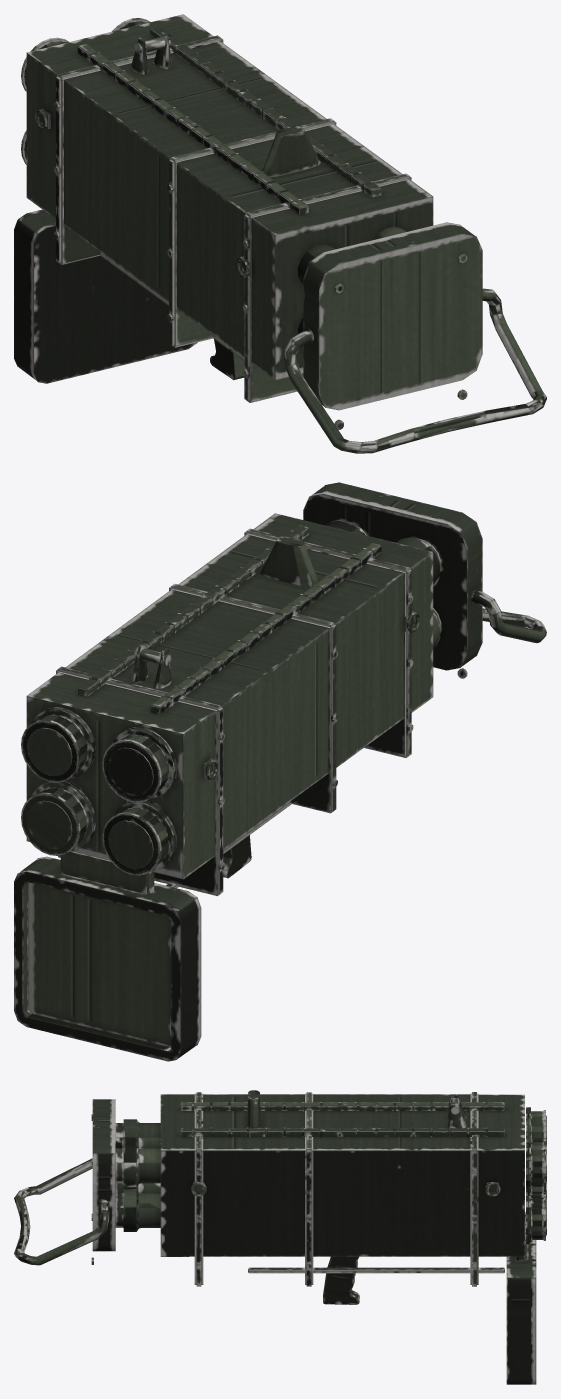
The model's file is quad_rocket_launcher.glb.
3 renders of one model, top to bottom at view 1: azimuth 30°, elevation 25°; view 2: azimuth 150°, elevation 25°; view 3: azimuth 270°, elevation 25°, orthographic. The views are drawn at different scales.
Parts seen in each view (by area): view 1: quadrocket, quadrocketderierre_low, detail, quadrocketdevant_low; view 2: quadrocket, detail, quadrocketdevant_low, quadrocketderierre_low; view 3: quadrocket, detail, quadrocketderierre_low, quadrocketdevant_low.
Part boxes in pixels (bbox=[...]): quadrocket: bbox=[26, 14, 433, 380]; quadrocketderierre_low: bbox=[284, 222, 546, 453]; detail: bbox=[21, 18, 467, 429]; quadrocketdevant_low: bbox=[14, 209, 197, 383]; quadrocket: bbox=[26, 513, 433, 879]; detail: bbox=[21, 525, 467, 896]; quadrocketdevant_low: bbox=[14, 851, 201, 1061]; quadrocketderierre_low: bbox=[303, 482, 546, 670]; quadrocket: bbox=[160, 1090, 524, 1304]; detail: bbox=[91, 1092, 546, 1286]; quadrocketderierre_low: bbox=[14, 1099, 160, 1265]; quadrocketdevant_low: bbox=[506, 1212, 536, 1384].
Size of the model in its own units: 0.2987 by 0.4764 by 0.8705.
Materials: 1 (1 with a texture image).
